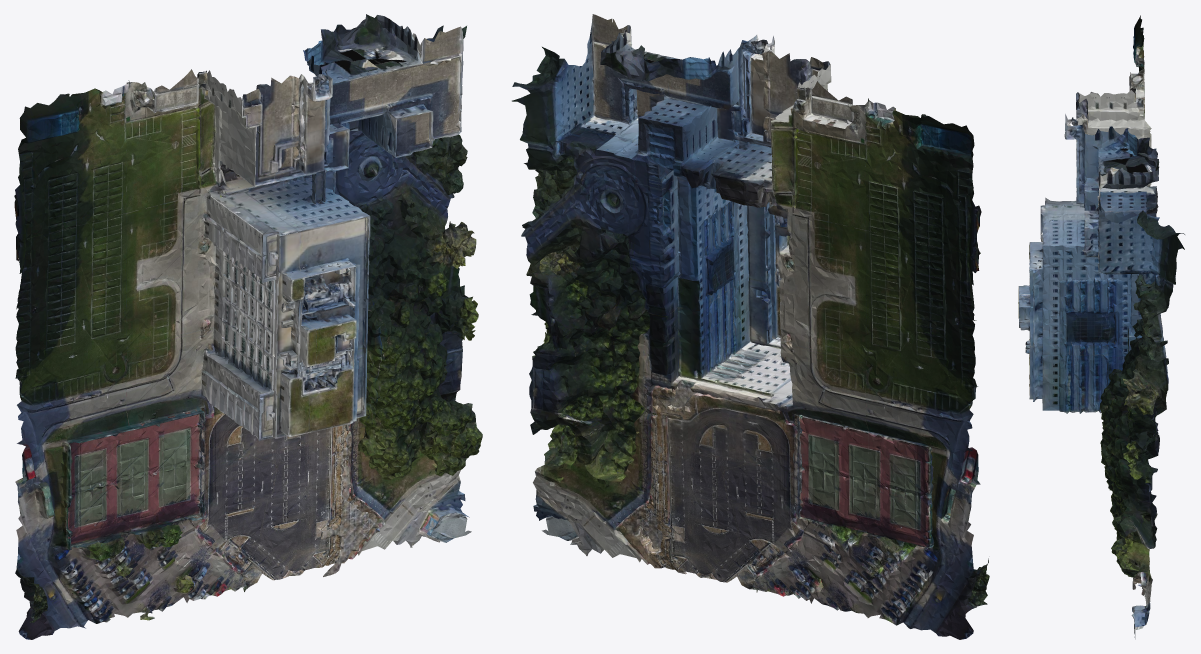
The model's file is level_2_0_0.obj.
3 views of the same model, side by side, from view 1: azimuth 30°, elevation 25°; view 2: azimuth 150°, elevation 25°; view 3: azimuth 270°, elevation 25° (orthographic). The views are drawn at different scales.
Visible parts, largest first — view 1: group_tex_0; view 2: group_tex_0; view 3: group_tex_0.
Boxes of the visible parts, x1,y1,x2,y2 form: group_tex_0: (14,14,482,639); group_tex_0: (512,14,989,639); group_tex_0: (1018,15,1184,639).
Bounding box in the file's own units: 160 × 180 × 60.49.
1 material, 1 textured.
